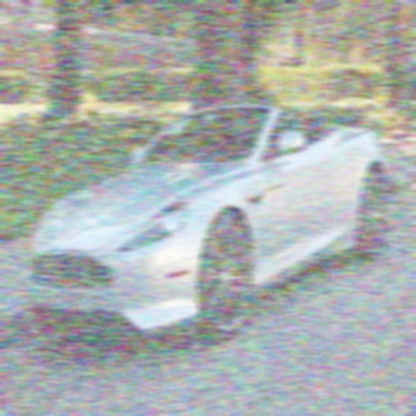Vehicle: (23, 102, 388, 344)
